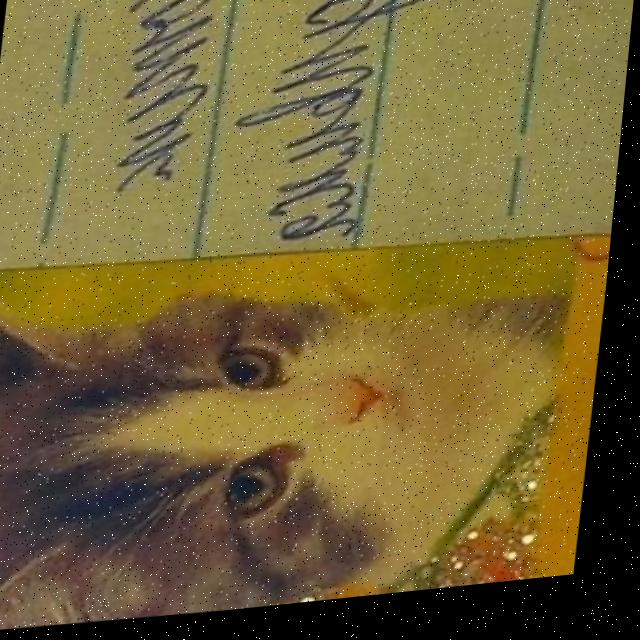Cats: (0, 243, 574, 640)
